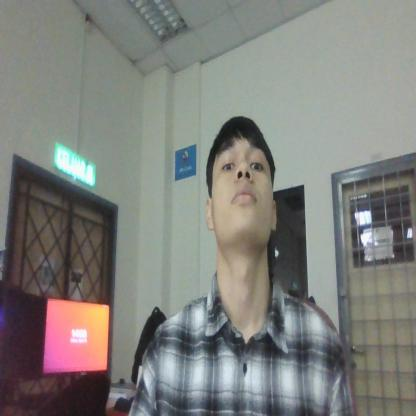Open-Eyes: (211, 144, 269, 180)
